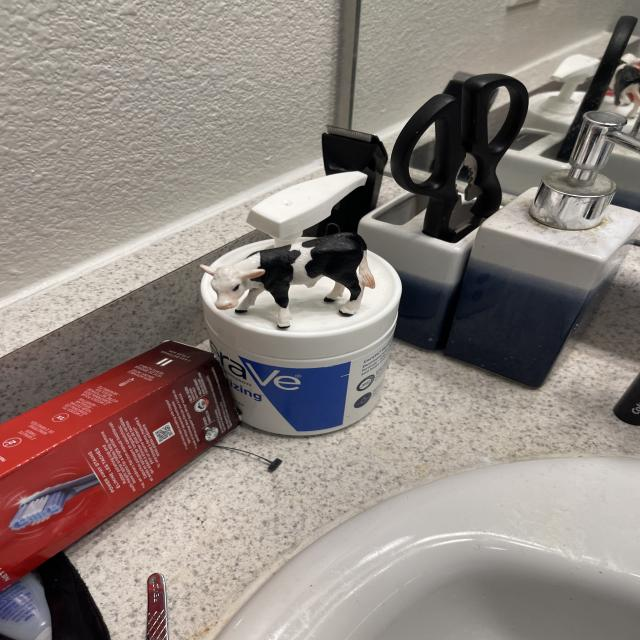cow: (200, 228, 381, 344)
